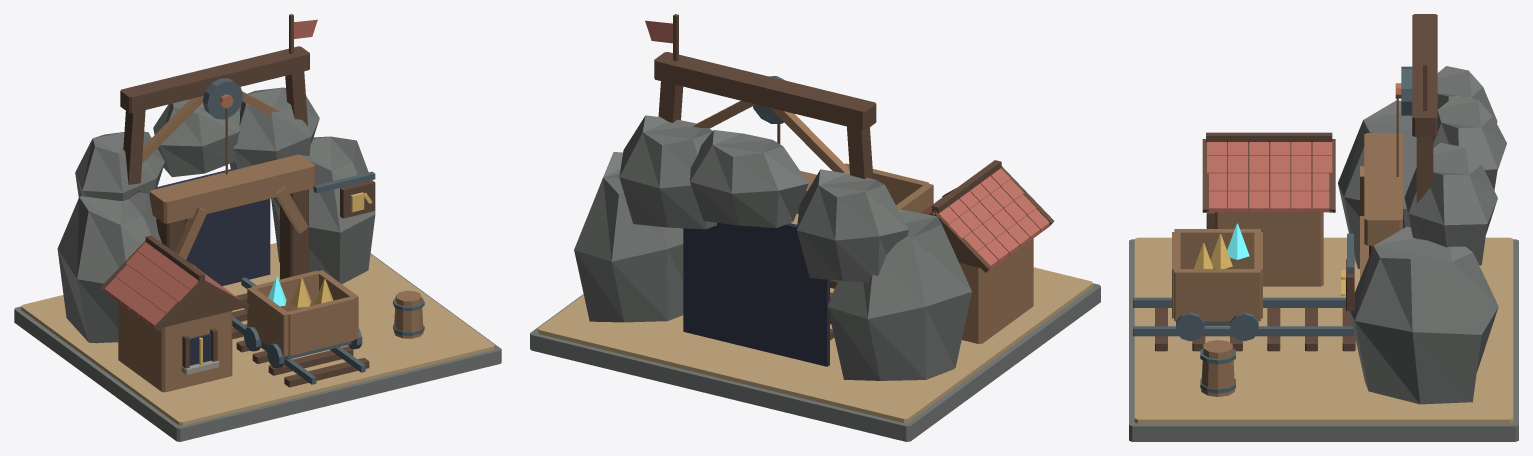
Rendered from ENV_Landmark_dwarves_LOD0.glb.
3 views of the same model, side by side, from view 1: azimuth 30°, elevation 25°; view 2: azimuth 150°, elevation 25°; view 3: azimuth 270°, elevation 25° (orthographic). The views are drawn at different scales.
Visible parts, largest first — view 1: ENV_Landmark_dwarves_LOD0_s3-6_stoneDark, ENV_Landmark_dwarves_LOD0_s3-6_sand, ENV_Landmark_dwarves_LOD0_s3-6_woodLight, ENV_Landmark_dwarves_LOD0_s3-6_woodDark, ENV_Landmark_dwarves_LOD0_s4-6_woodLight, ENV_Landmark_dwarves_LOD0_s5-6_woodDark, ENV_Landmark_dwarves_LOD0_s3-6_ink, ENV_Landmark_dwarves_LOD0_s3-6_red, ENV_Landmark_dwarves_LOD0_s4-6_iron, ENV_Landmark_dwarves_LOD0_s5-6_woodLight, ENV_Landmark_dwarves_LOD0_s5-6_iron, ENV_Landmark_dwarves_LOD0_s6-6_woodDark (+3 smaller); view 2: ENV_Landmark_dwarves_LOD0_s3-6_stoneDark, ENV_Landmark_dwarves_LOD0_s3-6_sand, ENV_Landmark_dwarves_LOD0_s3-6_ink, ENV_Landmark_dwarves_LOD0_s5-6_woodDark, ENV_Landmark_dwarves_LOD0_s3-6_red, ENV_Landmark_dwarves_LOD0_s3-6_woodLight, ENV_Landmark_dwarves_LOD0_s3-6_woodDark, ENV_Landmark_dwarves_LOD0_s5-6_woodLight, ENV_Landmark_dwarves_LOD0_s4-6_woodLight; view 3: ENV_Landmark_dwarves_LOD0_s3-6_stoneDark, ENV_Landmark_dwarves_LOD0_s3-6_sand, ENV_Landmark_dwarves_LOD0_s3-6_woodLight, ENV_Landmark_dwarves_LOD0_s3-6_red, ENV_Landmark_dwarves_LOD0_s4-6_woodLight, ENV_Landmark_dwarves_LOD0_s3-6_woodDark, ENV_Landmark_dwarves_LOD0_s5-6_woodDark, ENV_Landmark_dwarves_LOD0_s3-6_iron, ENV_Landmark_dwarves_LOD0_s4-6_iron, ENV_Landmark_dwarves_LOD0_s4-6_gold, ENV_Landmark_dwarves_LOD0_s5-6_iron, ENV_Landmark_dwarves_LOD0_s6-6_woodDark (+1 smaller).
Boxes of the visible parts, bbox=[...] form: ENV_Landmark_dwarves_LOD0_s3-6_stoneDark: bbox=[14, 87, 501, 441]; ENV_Landmark_dwarves_LOD0_s3-6_sand: bbox=[21, 243, 494, 425]; ENV_Landmark_dwarves_LOD0_s3-6_woodLight: bbox=[118, 154, 315, 392]; ENV_Landmark_dwarves_LOD0_s3-6_woodDark: bbox=[100, 189, 369, 387]; ENV_Landmark_dwarves_LOD0_s4-6_woodLight: bbox=[247, 270, 423, 356]; ENV_Landmark_dwarves_LOD0_s5-6_woodDark: bbox=[120, 46, 309, 199]; ENV_Landmark_dwarves_LOD0_s3-6_ink: bbox=[156, 167, 270, 365]; ENV_Landmark_dwarves_LOD0_s3-6_red: bbox=[103, 242, 240, 329]; ENV_Landmark_dwarves_LOD0_s4-6_iron: bbox=[244, 298, 424, 368]; ENV_Landmark_dwarves_LOD0_s5-6_woodLight: bbox=[142, 91, 279, 163]; ENV_Landmark_dwarves_LOD0_s5-6_iron: bbox=[202, 78, 243, 119]; ENV_Landmark_dwarves_LOD0_s6-6_woodDark: bbox=[289, 14, 375, 218]; ENV_Landmark_dwarves_LOD0_s3-6_stoneDark: bbox=[530, 115, 1100, 441]; ENV_Landmark_dwarves_LOD0_s3-6_sand: bbox=[538, 213, 1092, 422]; ENV_Landmark_dwarves_LOD0_s3-6_ink: bbox=[683, 222, 829, 366]; ENV_Landmark_dwarves_LOD0_s5-6_woodDark: bbox=[654, 52, 876, 178]; ENV_Landmark_dwarves_LOD0_s3-6_red: bbox=[921, 168, 1050, 270]; ENV_Landmark_dwarves_LOD0_s3-6_woodLight: bbox=[797, 170, 1033, 343]; ENV_Landmark_dwarves_LOD0_s3-6_woodDark: bbox=[830, 160, 1053, 340]; ENV_Landmark_dwarves_LOD0_s5-6_woodLight: bbox=[693, 100, 849, 173]; ENV_Landmark_dwarves_LOD0_s4-6_woodLight: bbox=[844, 163, 933, 213]; ENV_Landmark_dwarves_LOD0_s3-6_stoneDark: bbox=[1129, 66, 1518, 441]; ENV_Landmark_dwarves_LOD0_s3-6_sand: bbox=[1134, 237, 1513, 423]; ENV_Landmark_dwarves_LOD0_s3-6_woodLight: bbox=[1214, 133, 1402, 286]; ENV_Landmark_dwarves_LOD0_s3-6_red: bbox=[1207, 142, 1332, 212]; ENV_Landmark_dwarves_LOD0_s4-6_woodLight: bbox=[1172, 229, 1262, 396]; ENV_Landmark_dwarves_LOD0_s3-6_woodDark: bbox=[1155, 132, 1373, 351]; ENV_Landmark_dwarves_LOD0_s5-6_woodDark: bbox=[1412, 14, 1437, 239]; ENV_Landmark_dwarves_LOD0_s3-6_iron: bbox=[1133, 297, 1354, 336]; ENV_Landmark_dwarves_LOD0_s4-6_iron: bbox=[1176, 312, 1258, 393]; ENV_Landmark_dwarves_LOD0_s4-6_gold: bbox=[1194, 234, 1232, 268]; ENV_Landmark_dwarves_LOD0_s5-6_iron: bbox=[1401, 66, 1412, 115]; ENV_Landmark_dwarves_LOD0_s6-6_woodDark: bbox=[1346, 64, 1427, 310].
Size of the model in its own units: 9.2 by 7.51 by 8.1.
